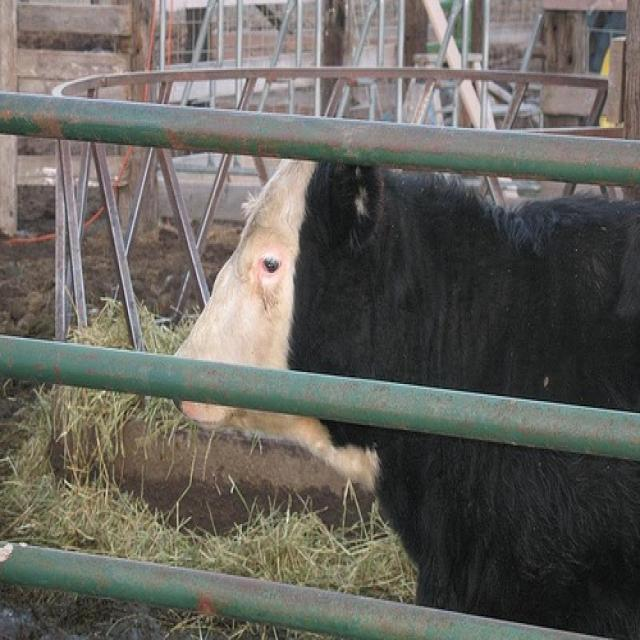cow: (167, 148, 638, 638)
